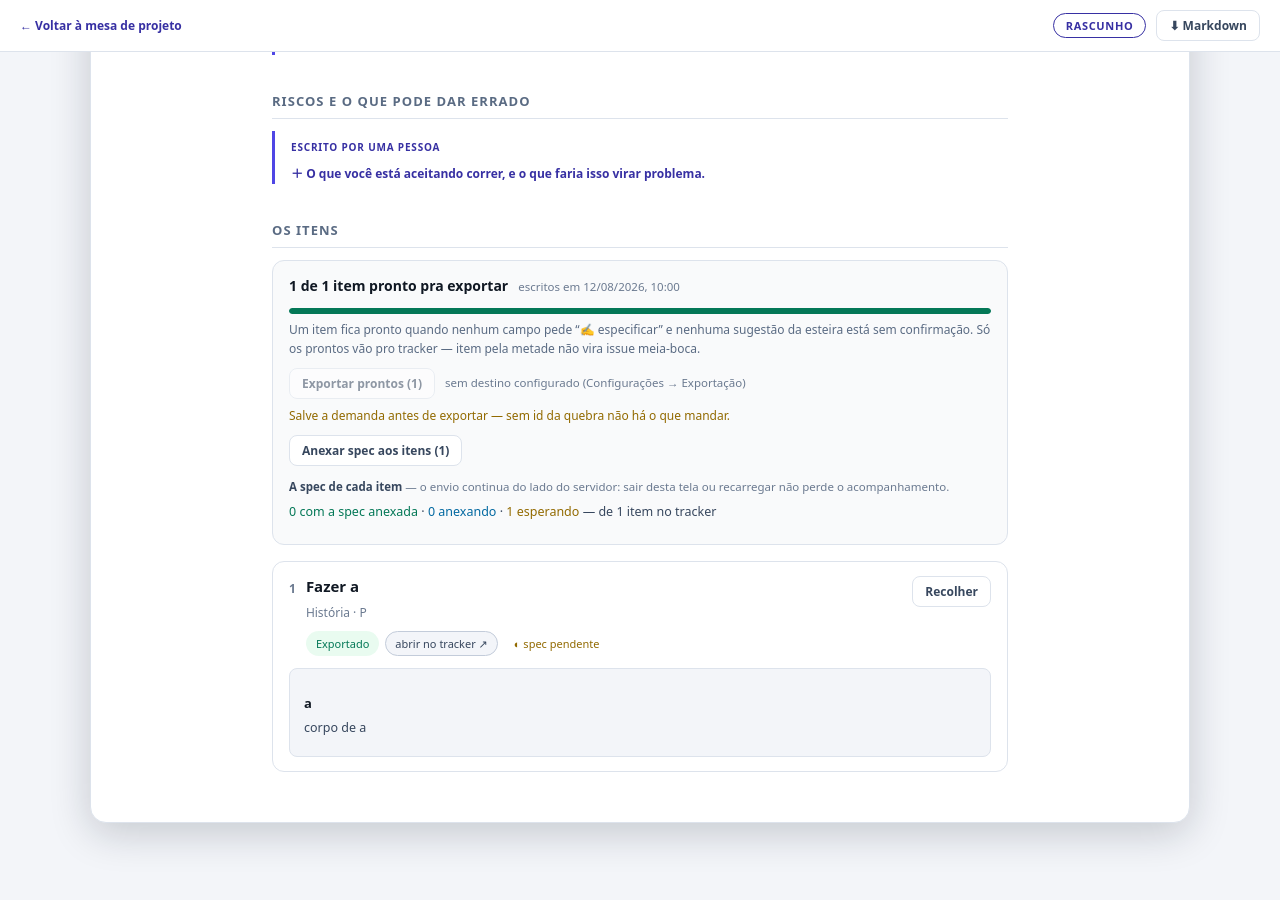
Test: DocumentoScreen — o pipeline da spec (SPEC-115 fatias E e G) › o começo do envio diz quando é DEMONSTRAÇÃO — nada sai daqui, e a tela fala isso
The width and height of the screenshot is (1280, 900).
(page scrolled)
Step 1. Click the button with test id "anexar-spec" → (376, 450), box [289, 435, 462, 466]
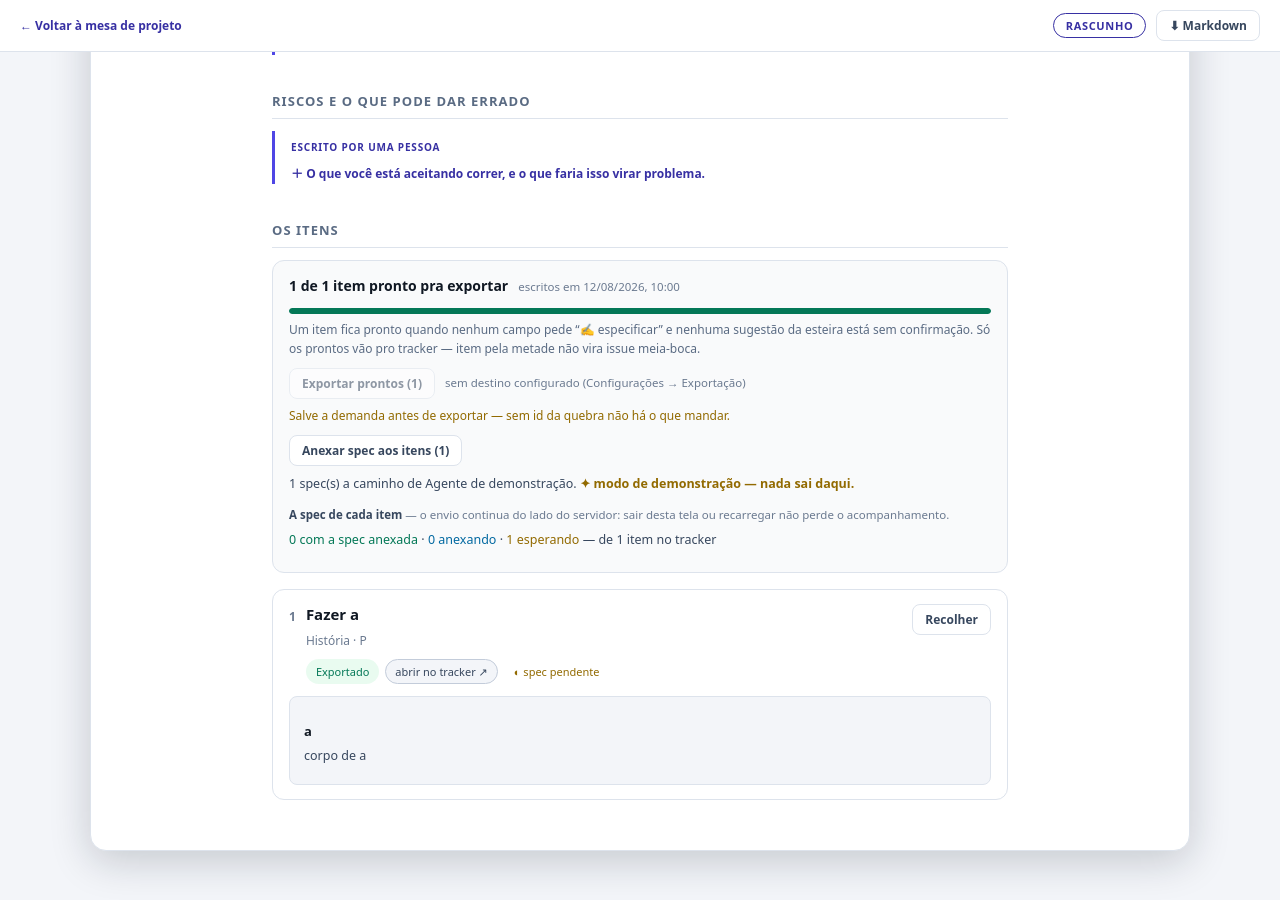
Now the element with test id "inicio-do-envio" shows "1 spec(s) a caminho de Agente de demonstração", box [289, 475, 854, 492]
Now the element with test id "inicio-do-envio" shows "modo de demonstração — nada sai daqui", box [577, 475, 854, 492]
